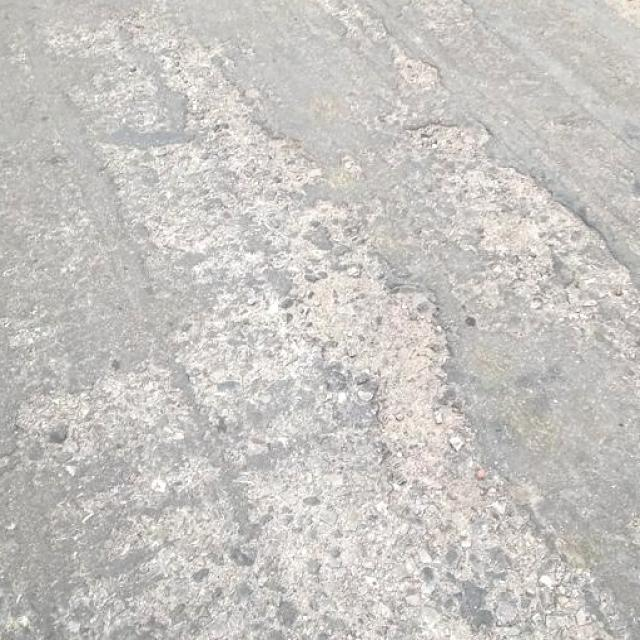road-pothole: (137, 29, 561, 553), (391, 111, 639, 318)
